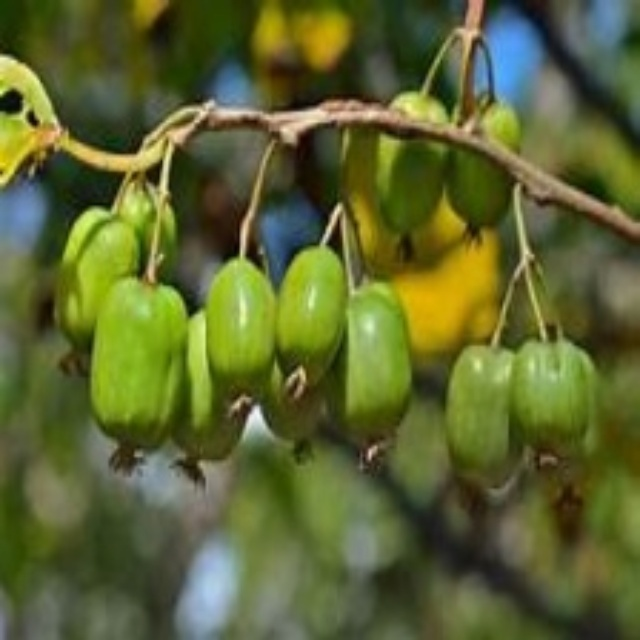kiwi: (383, 60, 528, 267), (59, 189, 160, 341), (99, 286, 182, 451), (202, 259, 283, 402), (270, 244, 356, 376), (448, 346, 527, 487), (164, 334, 240, 480), (337, 298, 412, 440), (518, 341, 596, 463), (258, 344, 325, 464)
